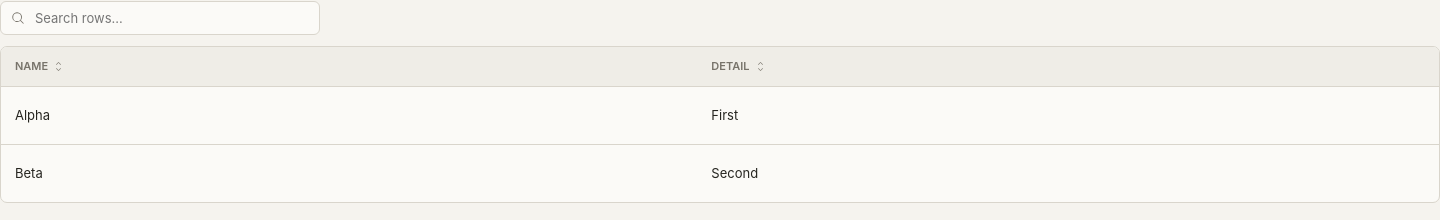
Test case: DataTable › filters rows through the view-provided search function
This screenshot has width=1440, height=220.
Step 1. Type "beta" into the field with placeholder "Search rows..." → (171, 18), box [33, 9, 309, 27]
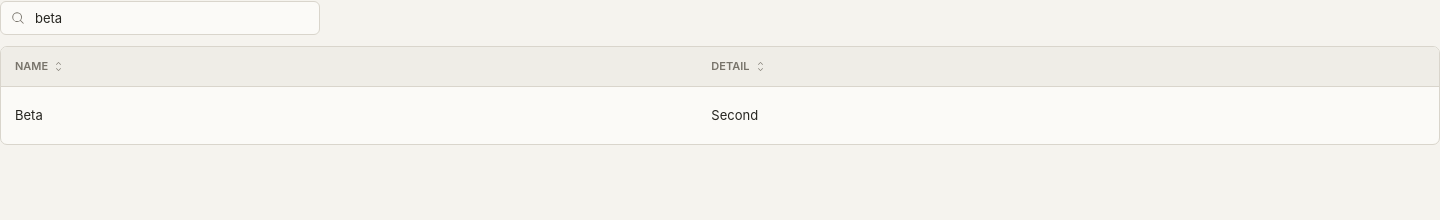
Expected: the text "Beta" is shown, [1, 86, 697, 144]
Expected: the text "Alpha" is gone
